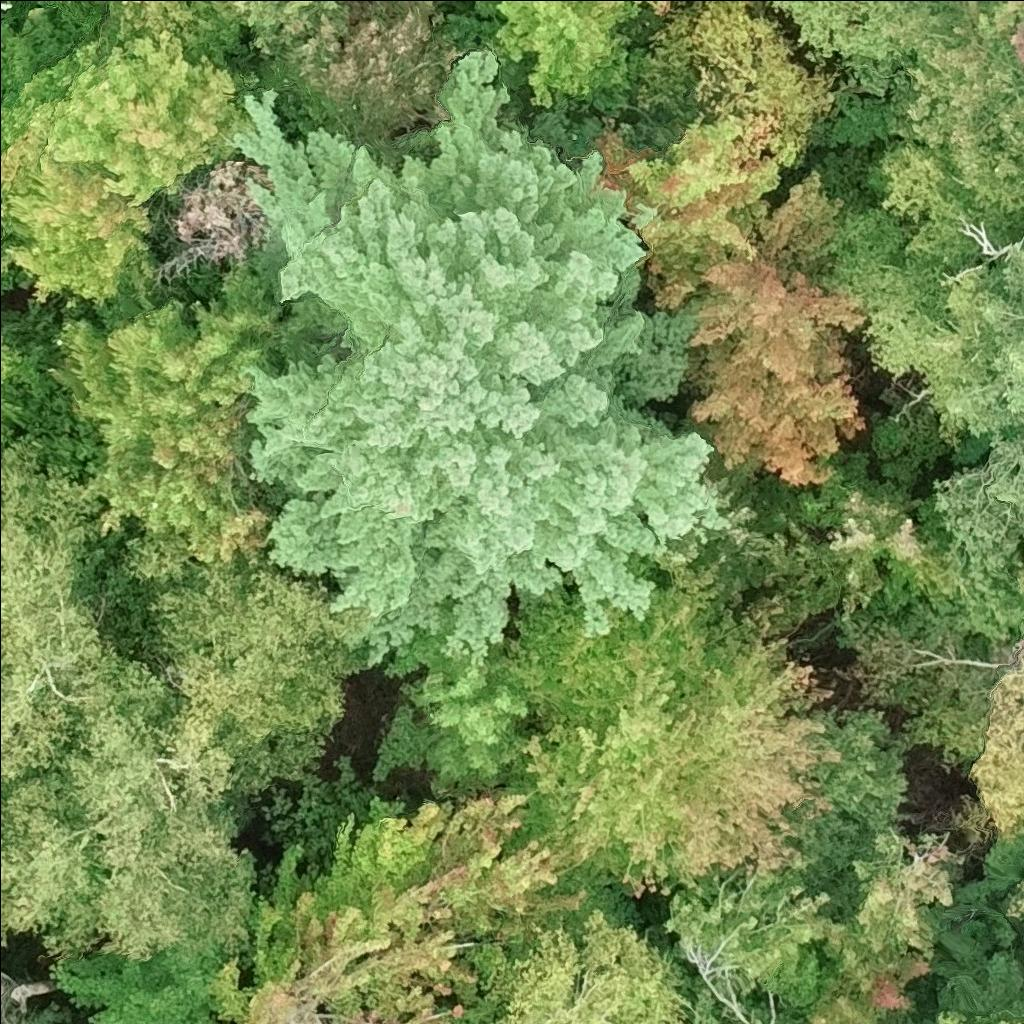crown: (225, 45, 739, 672), (44, 786, 595, 1023), (486, 562, 849, 902), (46, 240, 331, 566), (0, 645, 258, 964), (0, 26, 253, 310), (119, 527, 366, 801), (679, 170, 870, 486), (828, 0, 1023, 270), (595, 110, 804, 308), (0, 433, 112, 795), (924, 229, 1023, 586), (767, 444, 939, 641), (803, 827, 963, 1023), (260, 0, 462, 150), (458, 896, 695, 1023), (374, 633, 530, 801), (666, 867, 843, 992), (761, 0, 943, 99), (485, 0, 642, 107), (968, 635, 1023, 833), (229, 0, 352, 56), (0, 296, 34, 400), (686, 981, 738, 1023), (598, 0, 673, 20), (924, 1008, 1023, 1023), (1003, 873, 1023, 920), (0, 0, 14, 12), (50, 0, 66, 5)
